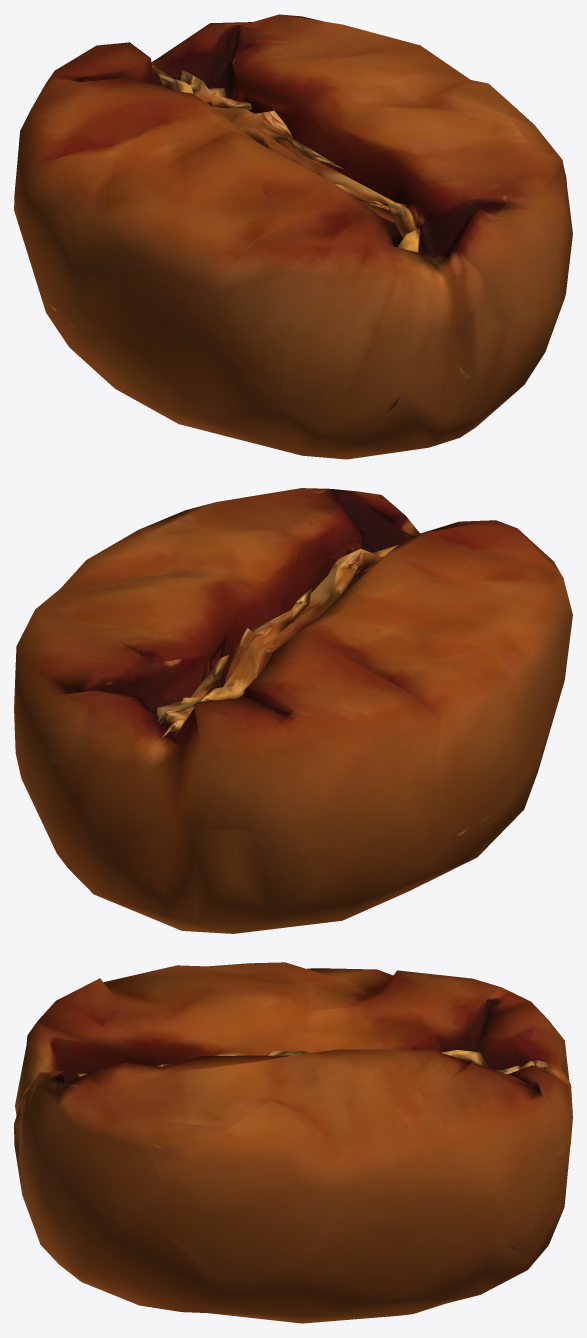
The model's file is graodecafe.glb.
The picture shows the model from 3 angles, top to bottom: view 1: azimuth 30°, elevation 25°; view 2: azimuth 150°, elevation 25°; view 3: azimuth 270°, elevation 25°; orthographic projection. The views are drawn at different scales.
Parts seen in each view (by area): view 1: tripo_node_0c86cb5c-fa24-4f01-835e-a25e41ddfd72; view 2: tripo_node_0c86cb5c-fa24-4f01-835e-a25e41ddfd72; view 3: tripo_node_0c86cb5c-fa24-4f01-835e-a25e41ddfd72.
Part boxes in pixels (x1=…): tripo_node_0c86cb5c-fa24-4f01-835e-a25e41ddfd72: x1=14, y1=14, x2=572, y2=459; tripo_node_0c86cb5c-fa24-4f01-835e-a25e41ddfd72: x1=14, y1=488, x2=572, y2=933; tripo_node_0c86cb5c-fa24-4f01-835e-a25e41ddfd72: x1=14, y1=962, x2=572, y2=1323.
Size of the model in its own units: 0.8151 by 0.4916 by 0.9713.
1 material, 1 textured.
